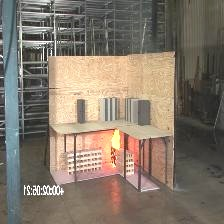fire: (105, 122, 123, 161)
